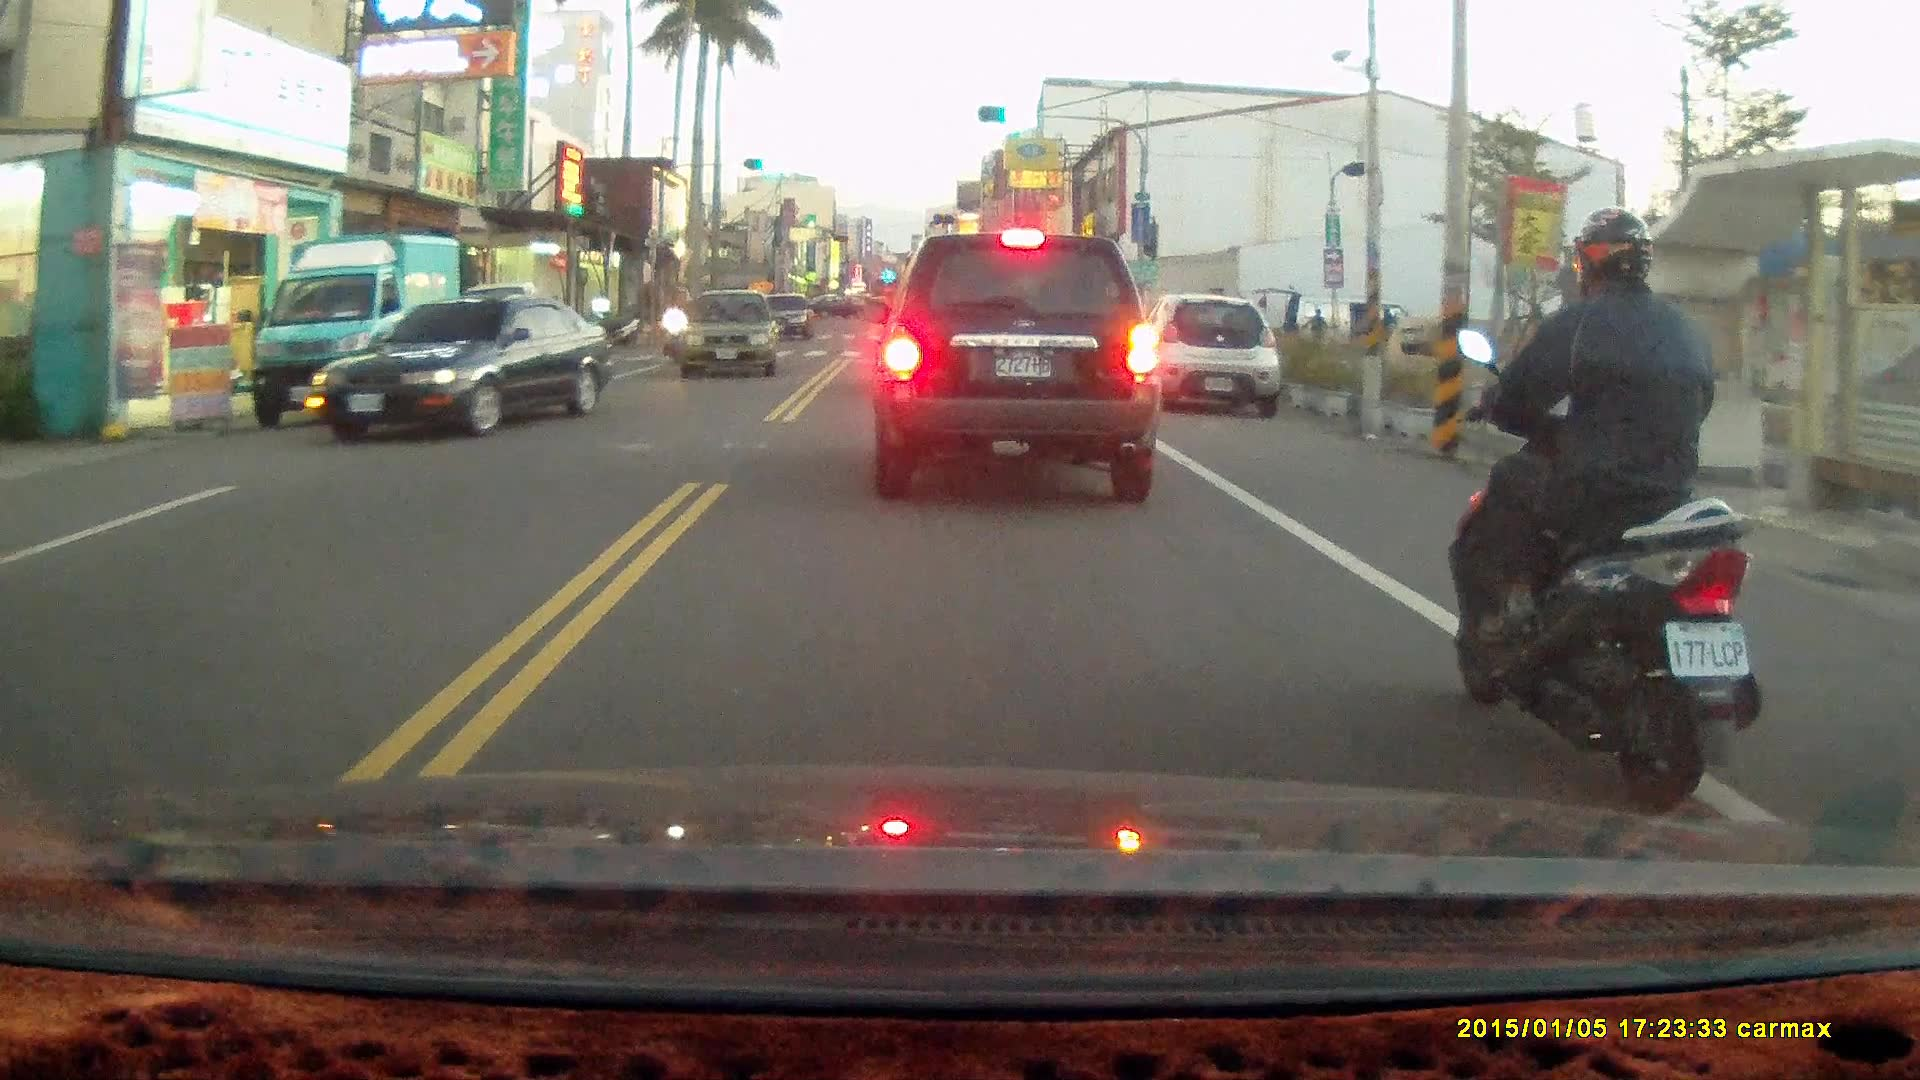rider: (1446, 199, 1760, 806), (658, 283, 696, 365)
vehicle: (870, 228, 1159, 503), (310, 291, 615, 436), (249, 231, 468, 430), (1141, 291, 1283, 418), (674, 287, 783, 382)
